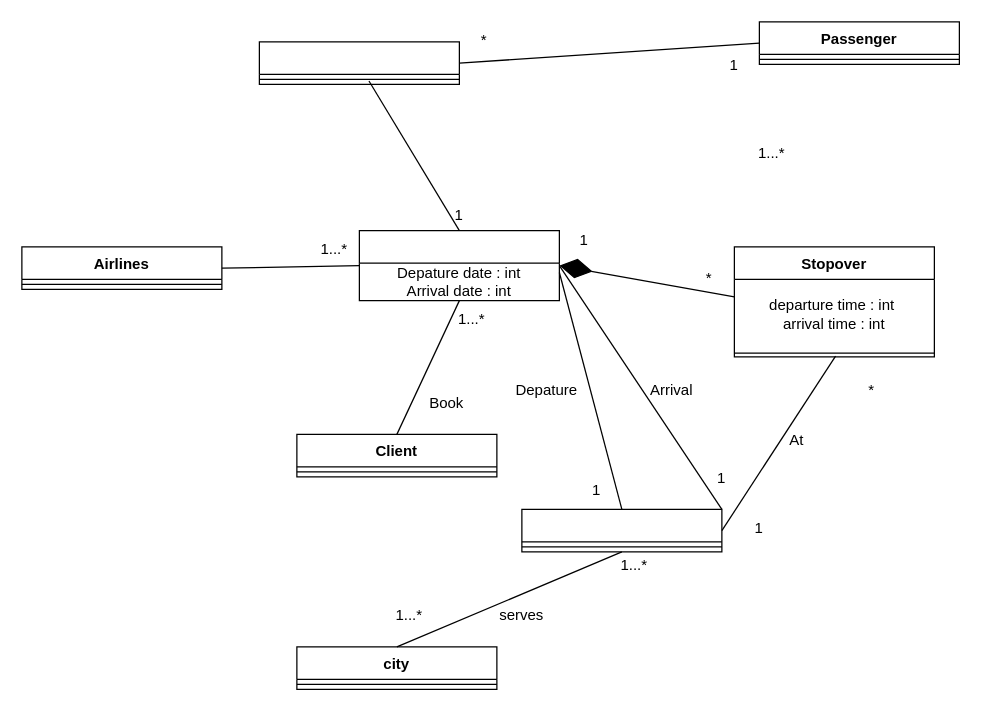
Image size: 981x711. Some labels were removed from this diagram. Each missing label, with the box of its shape:
Airport: (521, 508, 722, 552)
Flight: (358, 229, 559, 301)
Reservation: (258, 41, 459, 84)
